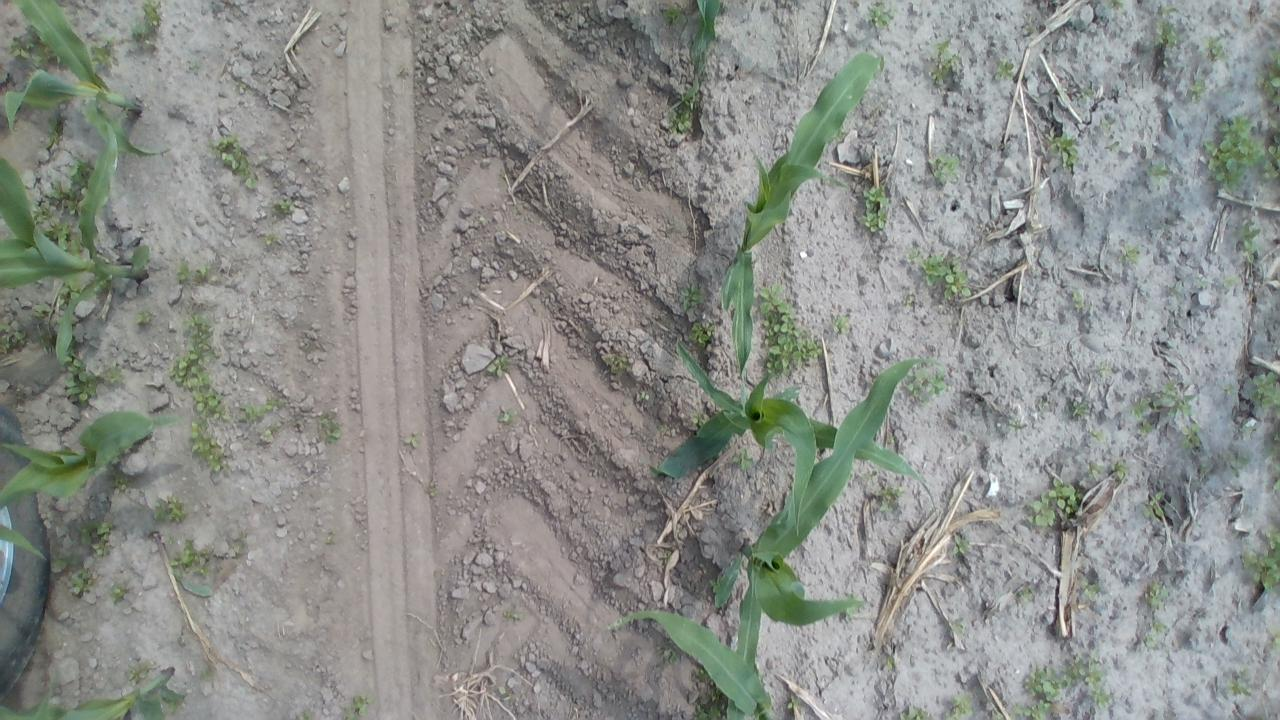Maize: (706, 356, 944, 675), (718, 51, 882, 400), (647, 346, 942, 500), (0, 112, 152, 364), (0, 407, 186, 562), (0, 0, 169, 159), (608, 604, 776, 718), (0, 659, 186, 720), (679, 0, 725, 130)
Weeds: (755, 279, 829, 380), (1201, 112, 1280, 194), (168, 314, 222, 423), (1020, 656, 1081, 720), (907, 247, 976, 300), (62, 355, 126, 406), (1028, 476, 1084, 530), (207, 133, 260, 190), (52, 157, 94, 216), (188, 418, 232, 474), (6, 27, 64, 68), (1245, 529, 1280, 592), (904, 366, 950, 406), (858, 183, 892, 234), (864, 470, 905, 512), (1082, 654, 1111, 710), (1197, 450, 1249, 481), (168, 542, 214, 576), (130, 0, 164, 46), (668, 88, 701, 133), (1046, 129, 1082, 170), (76, 520, 116, 556), (1154, 381, 1196, 415), (239, 394, 283, 425), (928, 150, 962, 190), (170, 260, 222, 286), (929, 44, 960, 86), (1259, 47, 1280, 108), (1249, 368, 1280, 408), (691, 686, 729, 718), (29, 302, 54, 350), (88, 33, 120, 70), (1234, 218, 1262, 260), (1267, 410, 1280, 497), (150, 496, 190, 524), (1128, 398, 1158, 435), (0, 314, 28, 353), (315, 408, 343, 446), (1153, 6, 1178, 48), (1141, 488, 1170, 522), (1140, 618, 1170, 650), (46, 224, 80, 252), (341, 692, 374, 720), (1144, 157, 1172, 190), (68, 568, 98, 598), (1141, 578, 1170, 608), (1224, 668, 1252, 698), (946, 692, 976, 720), (731, 444, 758, 474), (604, 350, 632, 378), (41, 117, 65, 149), (864, 3, 895, 27), (681, 282, 705, 313), (272, 196, 302, 219), (994, 59, 1020, 85), (689, 322, 714, 348), (1116, 242, 1142, 266), (30, 198, 54, 224), (1180, 424, 1203, 450), (660, 3, 686, 26), (1184, 77, 1208, 101), (1204, 36, 1228, 60), (488, 354, 512, 378), (1066, 399, 1094, 419), (399, 430, 424, 452), (949, 532, 971, 557), (899, 703, 931, 720), (231, 529, 250, 557), (259, 422, 283, 444), (108, 468, 130, 492), (1076, 80, 1097, 104), (502, 604, 527, 624), (1080, 577, 1100, 602), (497, 685, 518, 708), (1167, 280, 1188, 303), (52, 554, 78, 572), (496, 405, 517, 427), (660, 644, 680, 667), (1069, 290, 1089, 312), (106, 583, 128, 603), (134, 308, 154, 330), (832, 313, 852, 335), (1110, 459, 1130, 480), (1014, 584, 1036, 603), (61, 278, 80, 300), (844, 595, 861, 619), (264, 232, 284, 252), (128, 662, 148, 682), (690, 664, 710, 684), (1085, 461, 1104, 481), (634, 383, 652, 404), (90, 275, 111, 293), (665, 218, 686, 236), (994, 705, 1019, 720), (1019, 21, 1038, 40), (232, 77, 251, 96), (898, 291, 916, 311), (198, 666, 218, 684), (948, 618, 966, 638), (1222, 380, 1240, 399), (164, 697, 182, 716), (186, 58, 204, 76), (423, 482, 441, 500), (1090, 427, 1110, 443), (709, 573, 724, 594), (1194, 275, 1212, 292), (1098, 0, 1127, 10), (690, 412, 706, 430), (1100, 116, 1114, 136), (1222, 276, 1245, 288), (884, 652, 899, 670), (1094, 362, 1112, 375), (1270, 629, 1280, 650), (788, 696, 802, 710), (1033, 328, 1047, 342), (835, 128, 849, 142), (1008, 416, 1022, 430), (657, 422, 670, 436), (886, 432, 900, 445), (326, 529, 336, 546), (660, 549, 670, 563), (299, 714, 314, 720)
